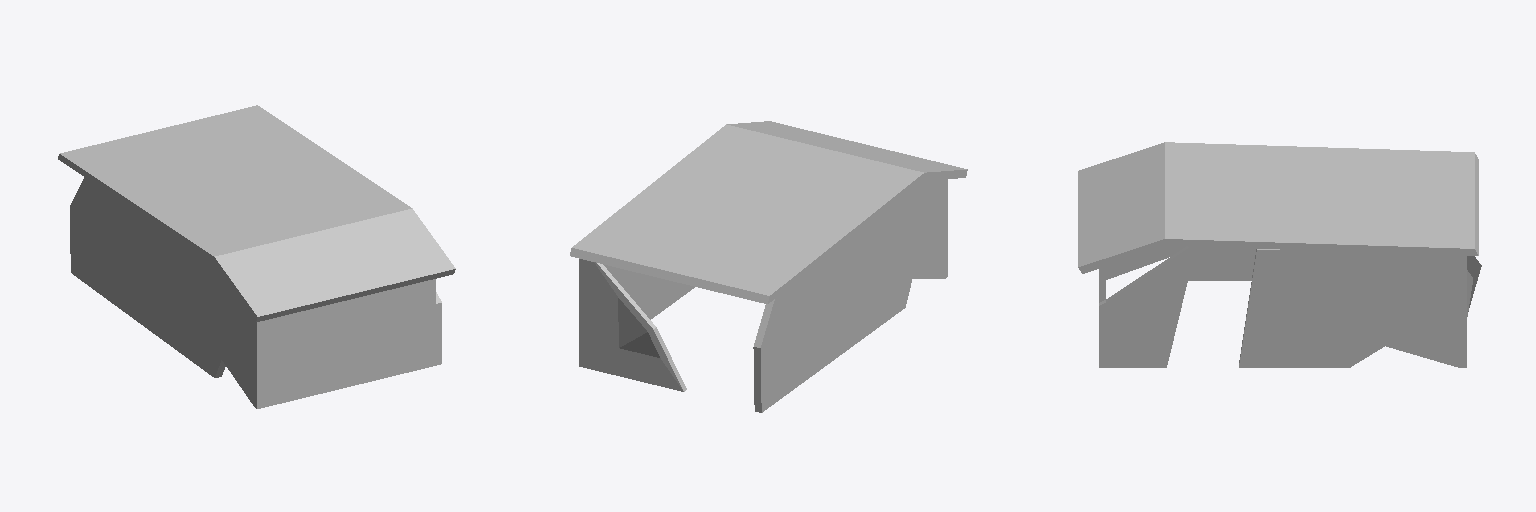
Rendered from hut.obj.
3 renders of one model, left to right at view 1: azimuth 30°, elevation 25°; view 2: azimuth 150°, elevation 25°; view 3: azimuth 270°, elevation 25°, orthographic.
Parts seen in each view (by area): view 1: Hut_Model; view 2: Hut_Model; view 3: Hut_Model.
Boxes of the visible parts, <box> form: Hut_Model: <box>58,105,455,408</box>; Hut_Model: <box>570,121,967,412</box>; Hut_Model: <box>1078,142,1481,367</box>.
Size of the model in its own units: 6.71 by 4.24 by 11.84.